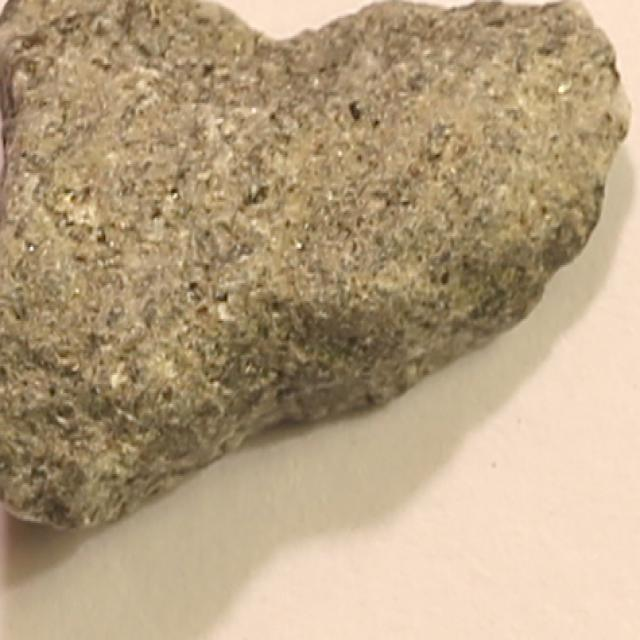stone: (1, 1, 640, 536)
